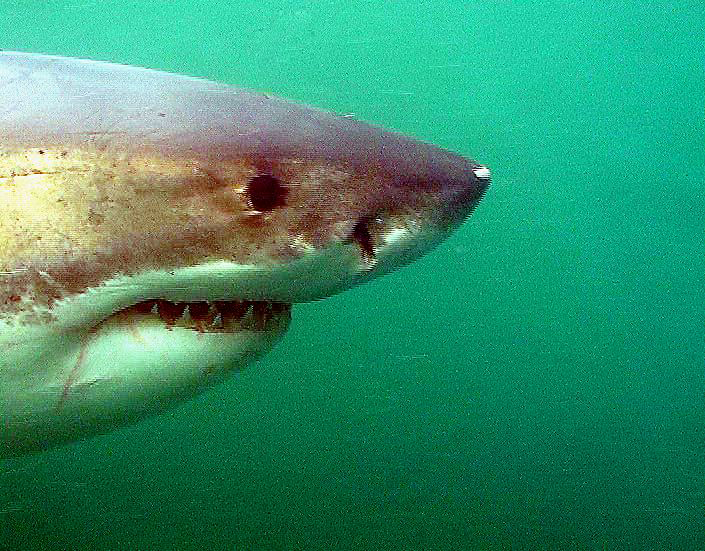Carcharodon_carcharias: (1, 46, 507, 458)
